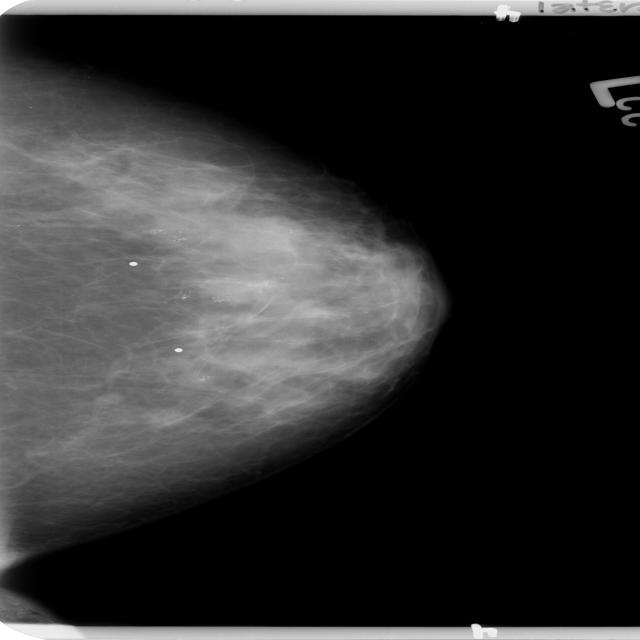cancer: (146, 161, 431, 437)
